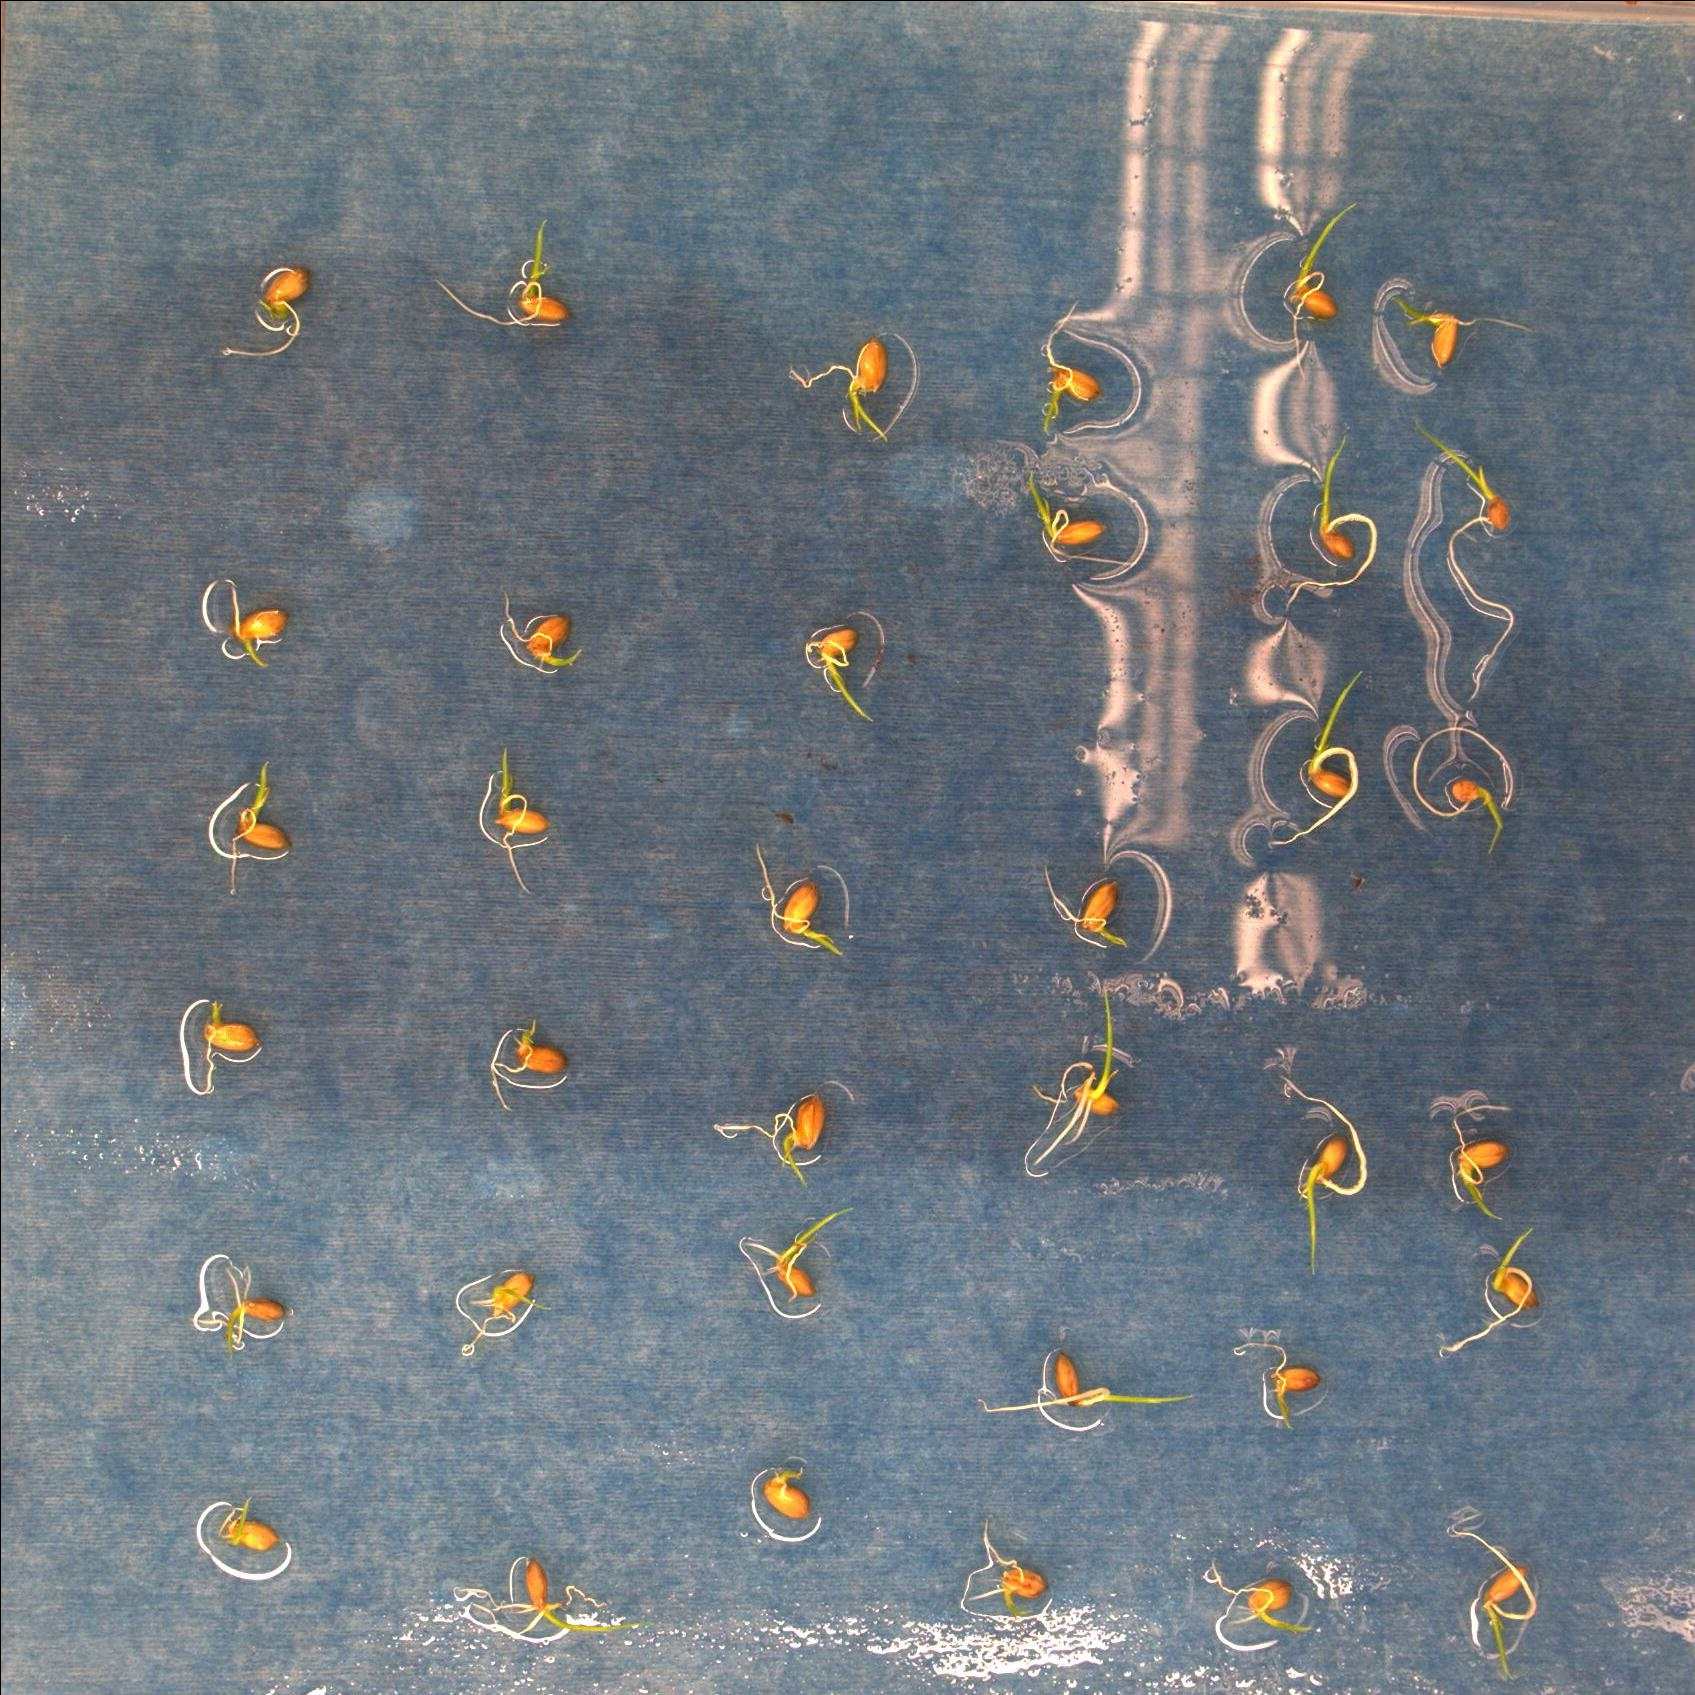not sprout: (211, 250, 328, 374), (1031, 329, 1114, 435), (177, 998, 282, 1074), (757, 1461, 820, 1530)
sprout: (1270, 177, 1389, 385), (1444, 1509, 1560, 1683), (1274, 658, 1377, 849), (1287, 1069, 1380, 1277), (439, 210, 581, 341), (1467, 453, 1562, 643), (1048, 981, 1144, 1161), (723, 1205, 877, 1310), (989, 1350, 1209, 1423), (784, 321, 906, 442), (202, 757, 309, 893), (1284, 442, 1375, 599), (747, 840, 855, 972), (1388, 289, 1538, 383), (498, 1538, 618, 1652), (189, 565, 303, 683), (796, 612, 910, 730), (1411, 754, 1524, 868), (477, 740, 562, 889), (1434, 1094, 1535, 1220), (1458, 1232, 1557, 1360), (1205, 1562, 1338, 1655), (1225, 1321, 1338, 1430), (189, 1253, 303, 1357), (500, 581, 601, 694), (700, 1096, 841, 1177), (1029, 470, 1138, 573), (1034, 858, 1144, 959), (958, 1527, 1059, 1638), (464, 1256, 557, 1371), (483, 1018, 573, 1121), (210, 1482, 295, 1551)
